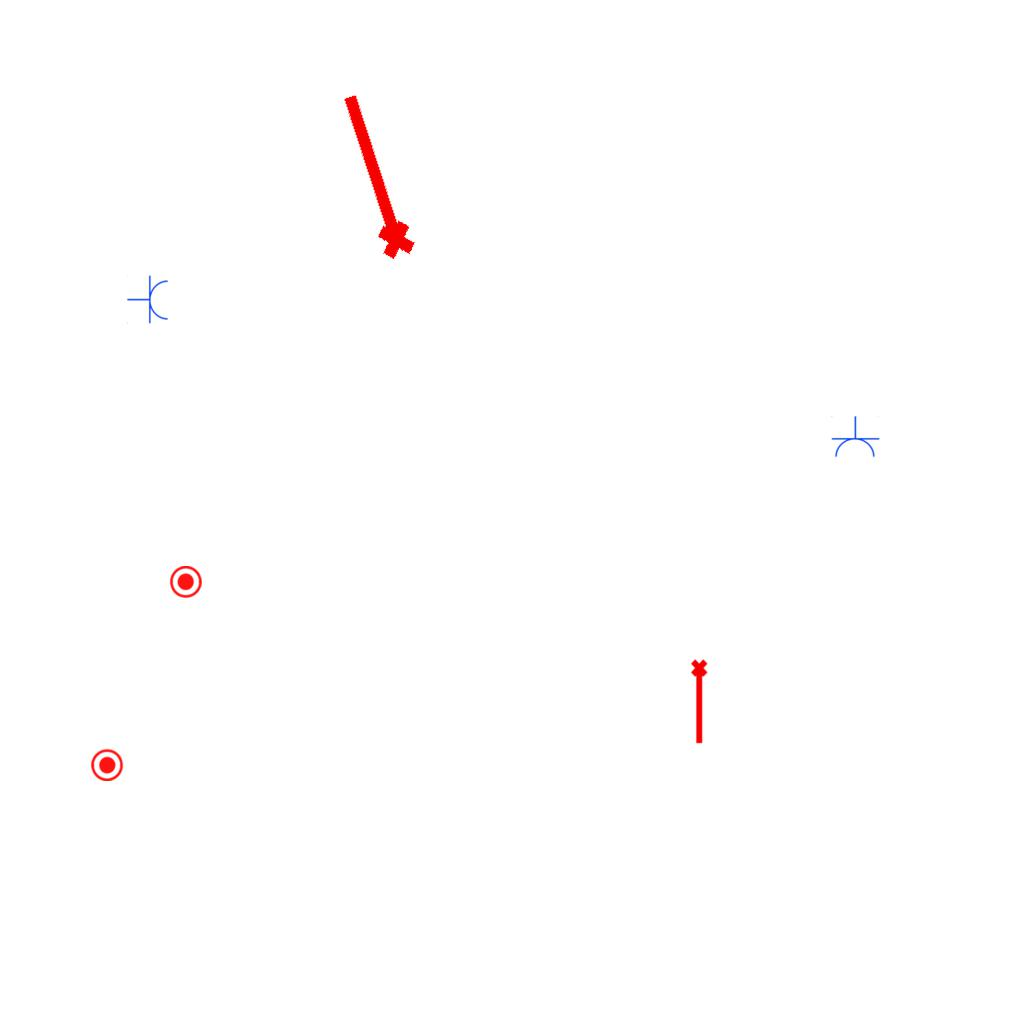ASR_Ansaugoeffnung: (323, 85, 423, 267), (689, 658, 712, 746)
Schukosteckdose_einfach: (127, 275, 170, 325), (830, 416, 880, 459)
Taster: (169, 566, 202, 599), (91, 748, 124, 781)
